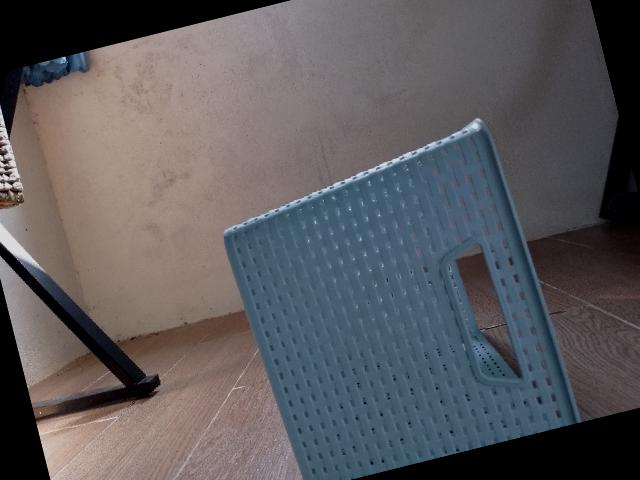cart: (223, 118, 582, 480)
